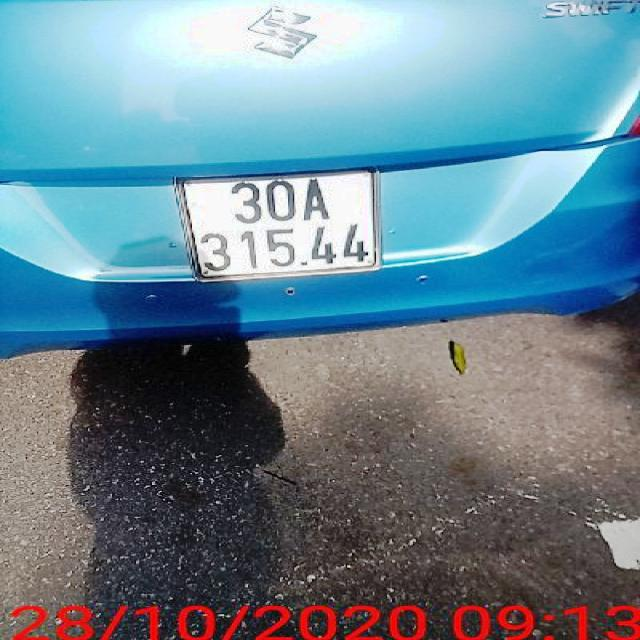license_plate: (177, 169, 383, 281)
